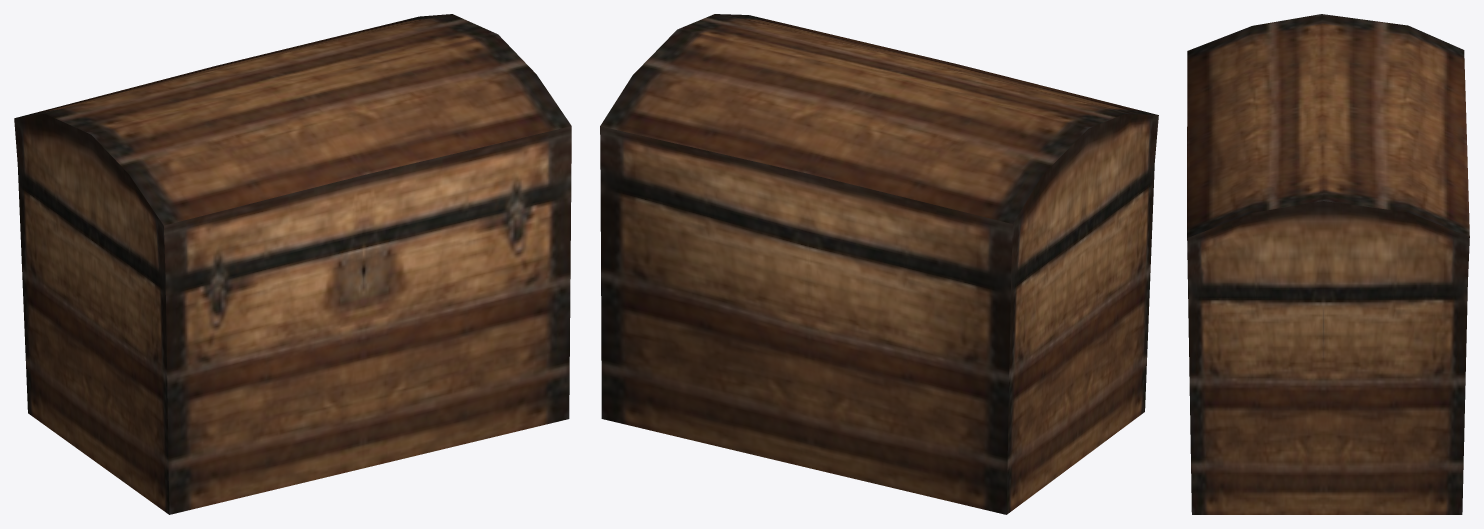
File: Trunk_rounded_2.fbx
3 renders of one model, left to right at view 1: azimuth 30°, elevation 25°; view 2: azimuth 150°, elevation 25°; view 3: azimuth 270°, elevation 25°, orthographic. The views are drawn at different scales.
Visible parts, largest first — view 1: lod_high; view 2: lod_high; view 3: lod_high.
Boxes of the visible parts, x1,y1,x2,y2 form: lod_high: (14, 14, 571, 514); lod_high: (600, 14, 1158, 514); lod_high: (1187, 14, 1469, 514).
Size of the model in its own units: 284 by 222 by 180.
1 material, 1 textured.
